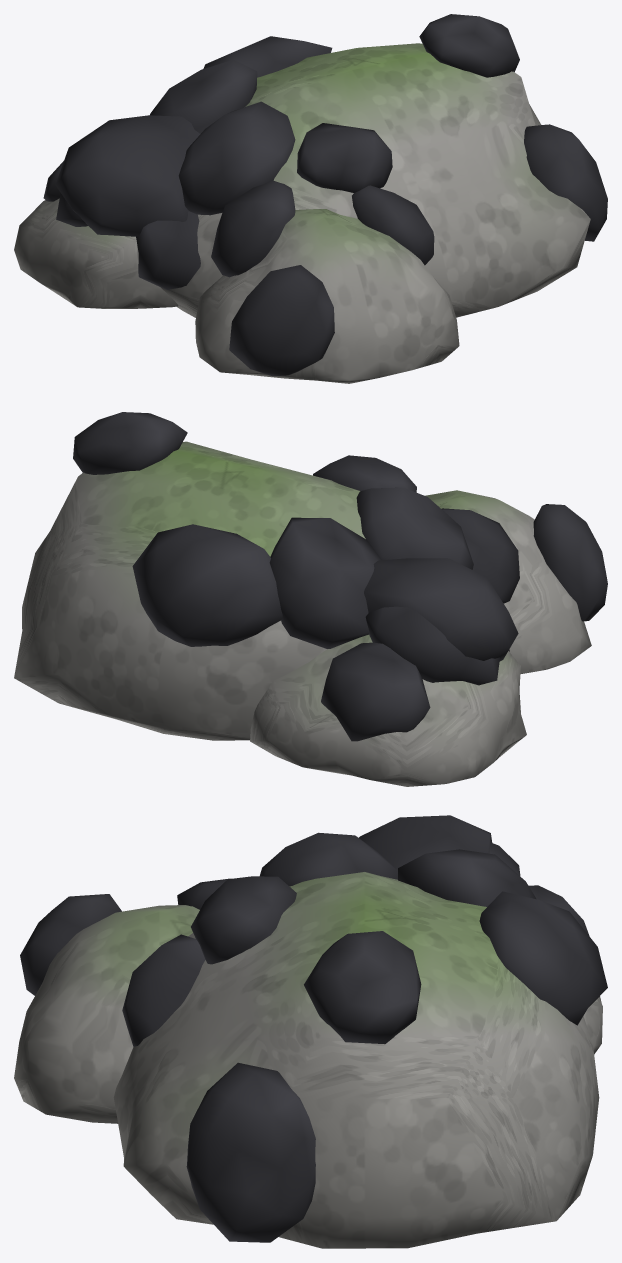
File: ore_coal_cluster.glb
The picture shows the model from 3 angles, top to bottom: view 1: azimuth 30°, elevation 25°; view 2: azimuth 150°, elevation 25°; view 3: azimuth 270°, elevation 25°; orthographic projection. The views are drawn at different scales.
Parts seen in each view (by area): view 1: ore_coal_stone, ore_coal; view 2: ore_coal_stone, ore_coal; view 3: ore_coal_stone, ore_coal.
Part boxes in pixels (left/top/right/bottom): ore_coal_stone: left=14, top=43, right=590, bottom=383; ore_coal: left=43, top=14, right=607, bottom=376; ore_coal_stone: left=14, top=441, right=591, bottom=786; ore_coal: left=73, top=412, right=607, bottom=741; ore_coal_stone: left=14, top=872, right=602, bottom=1248; ore_coal: left=20, top=815, right=607, bottom=1242.
Bounding box in the file's own units: 1.95 × 0.8335 × 1.68.
Materials: 2 (1 with a texture image).
